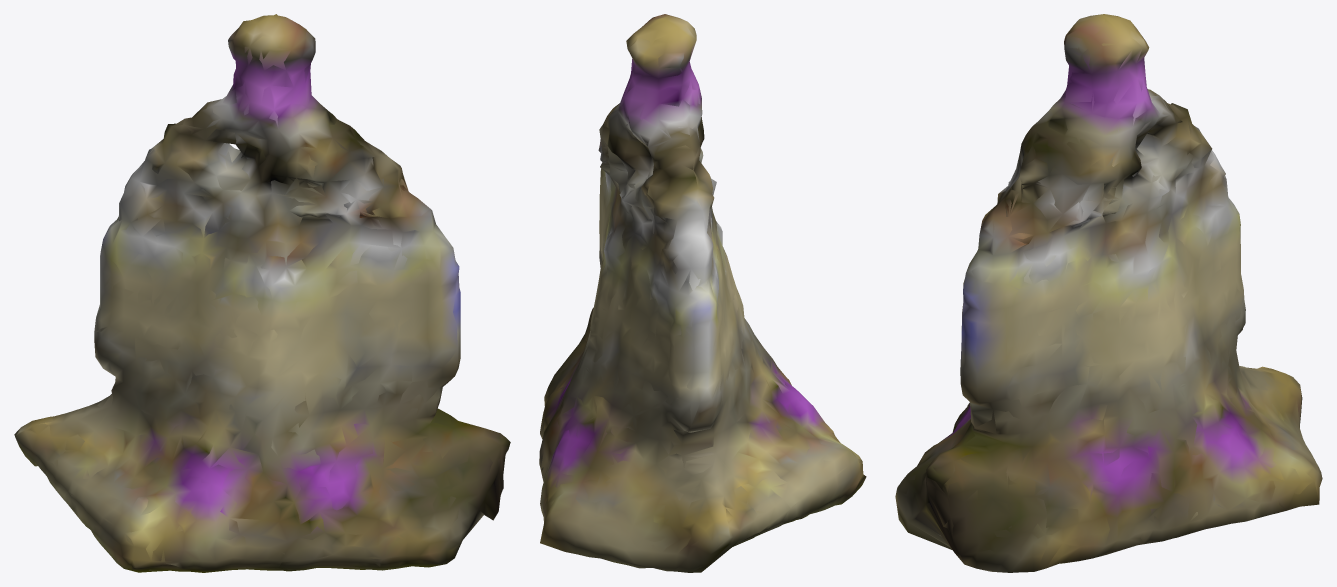
File: yuri_bio_reactor.glb
3 views of the same model, side by side, from view 1: azimuth 30°, elevation 25°; view 2: azimuth 150°, elevation 25°; view 3: azimuth 270°, elevation 25° (orthographic). The views are drawn at different scales.
Parts seen in each view (by area): view 1: yuri_bio_reactor; view 2: yuri_bio_reactor; view 3: yuri_bio_reactor.
Part boxes in pixels (x1,y1,x2,y2): yuri_bio_reactor: (14,14,510,572); yuri_bio_reactor: (539,14,866,572); yuri_bio_reactor: (895,14,1322,572).
Bounding box in the file's own units: 1.16 × 1.61 × 1.28.
